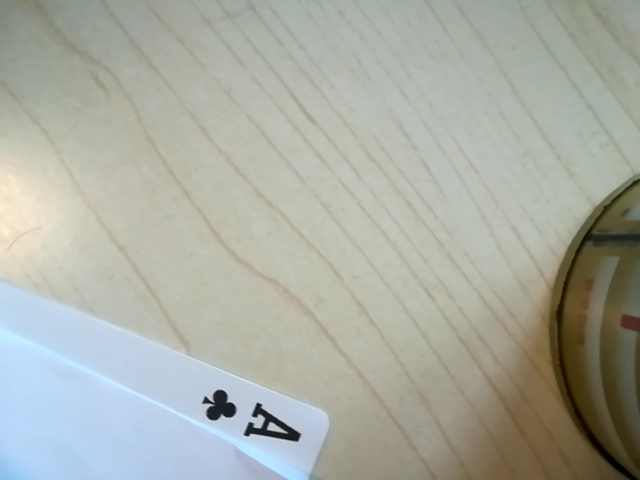mh a: (185, 379, 322, 458)
